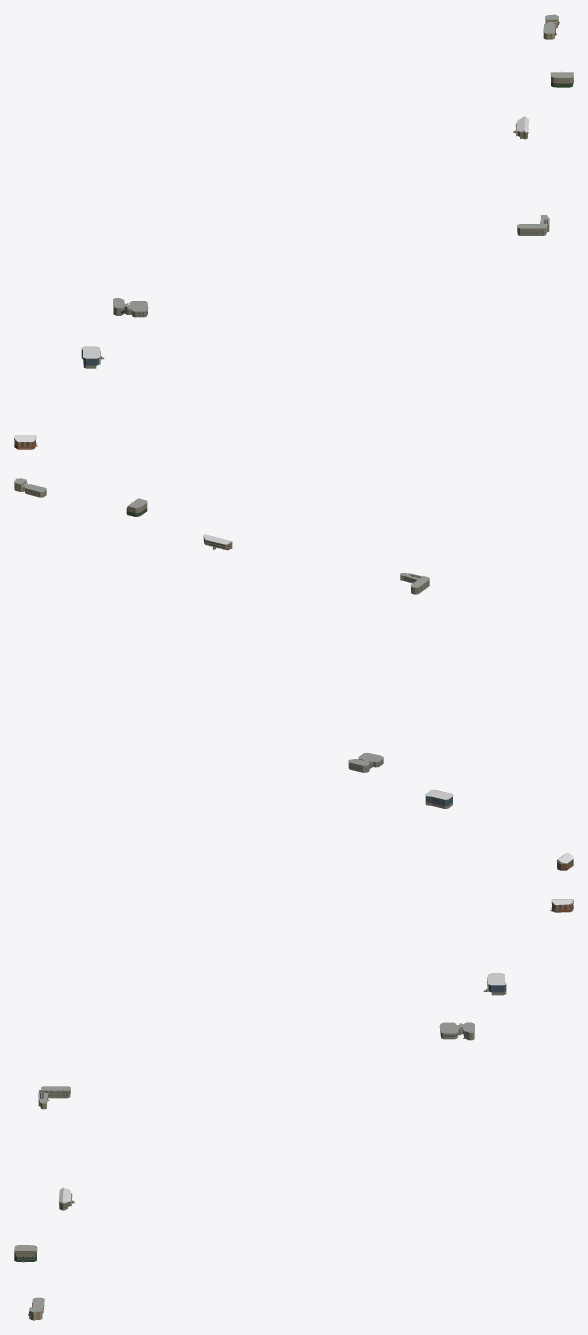
Rendered from site.glb.
The picture shows the model from 3 angles, top to bottom: view 1: azimuth 90°, elevation 25°; view 2: azimuth 150°, elevation 25°; view 3: azimuth 270°, elevation 25°; orthographic projection. The views are drawn at different scales.
Parts seen in each view (by area): view 1: roof-2cbfcd06; view 2: roof-2cbfcd06; view 3: roof-2cbfcd06.
Part boxes in pixels (x1=…): roof-2cbfcd06: x1=113, y1=298, x2=148, y2=317; roof-2cbfcd06: x1=348, y1=752, x2=383, y2=772; roof-2cbfcd06: x1=439, y1=1022, x2=474, y2=1040.
Size of the model in its own units: 1066 by 24.98 by 600.
